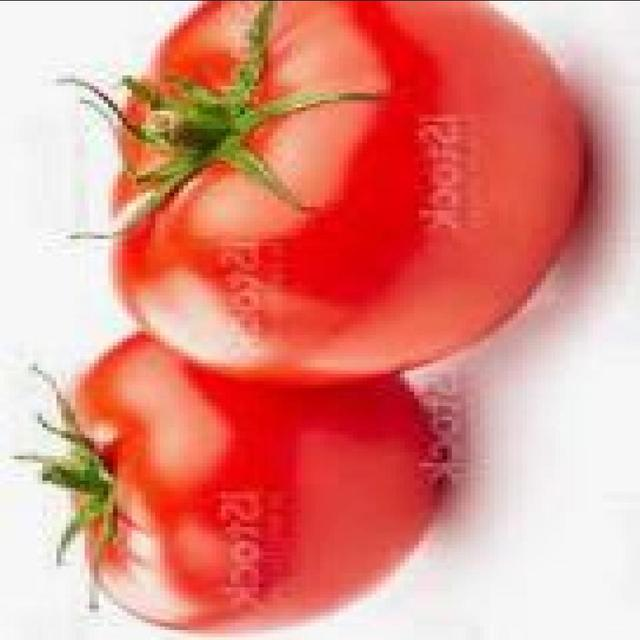Healthy Fruit: (164, 124, 351, 327)
